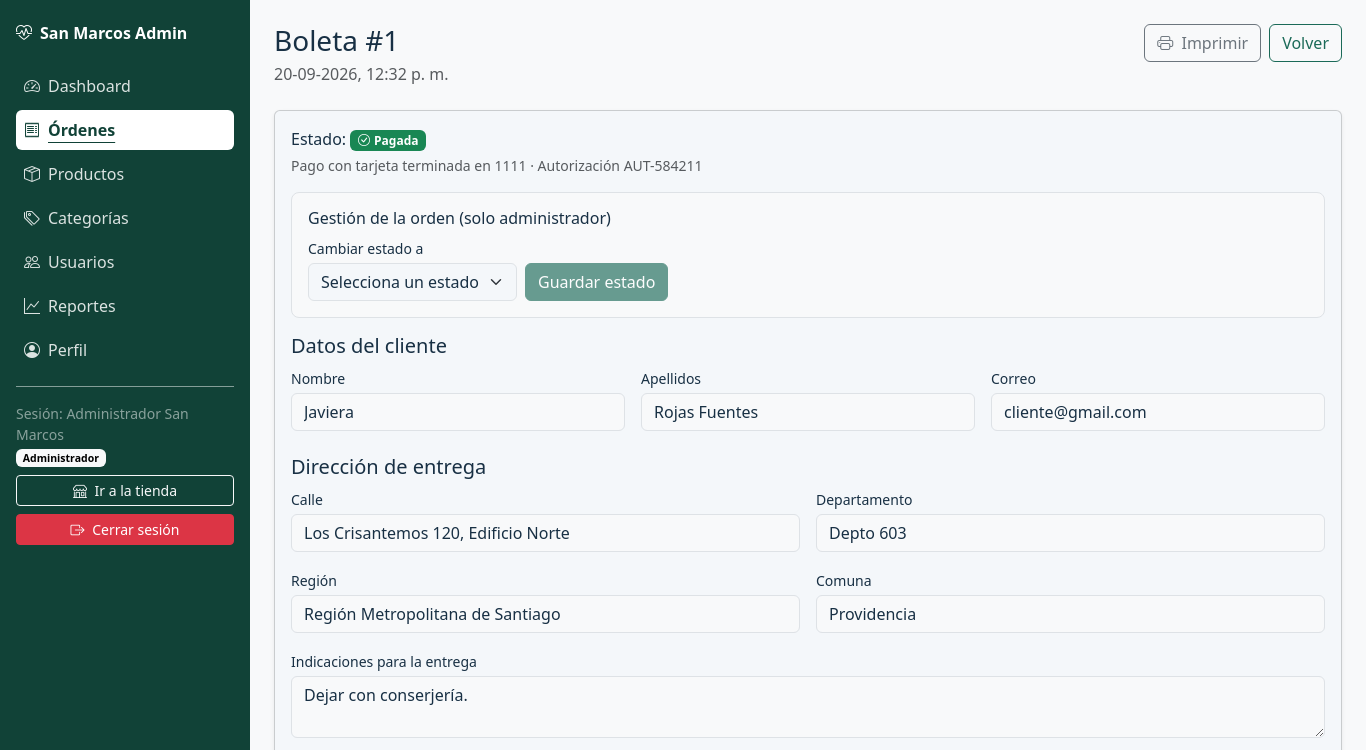
it: Panel de administración: cada vista renderiza sus datos › el administrador cambia el estado de una boleta
Select "Enviada" in the dropdown labelled "Cambiar estado a" at (412, 282), box top-left (308, 263), bottom-right (517, 301)
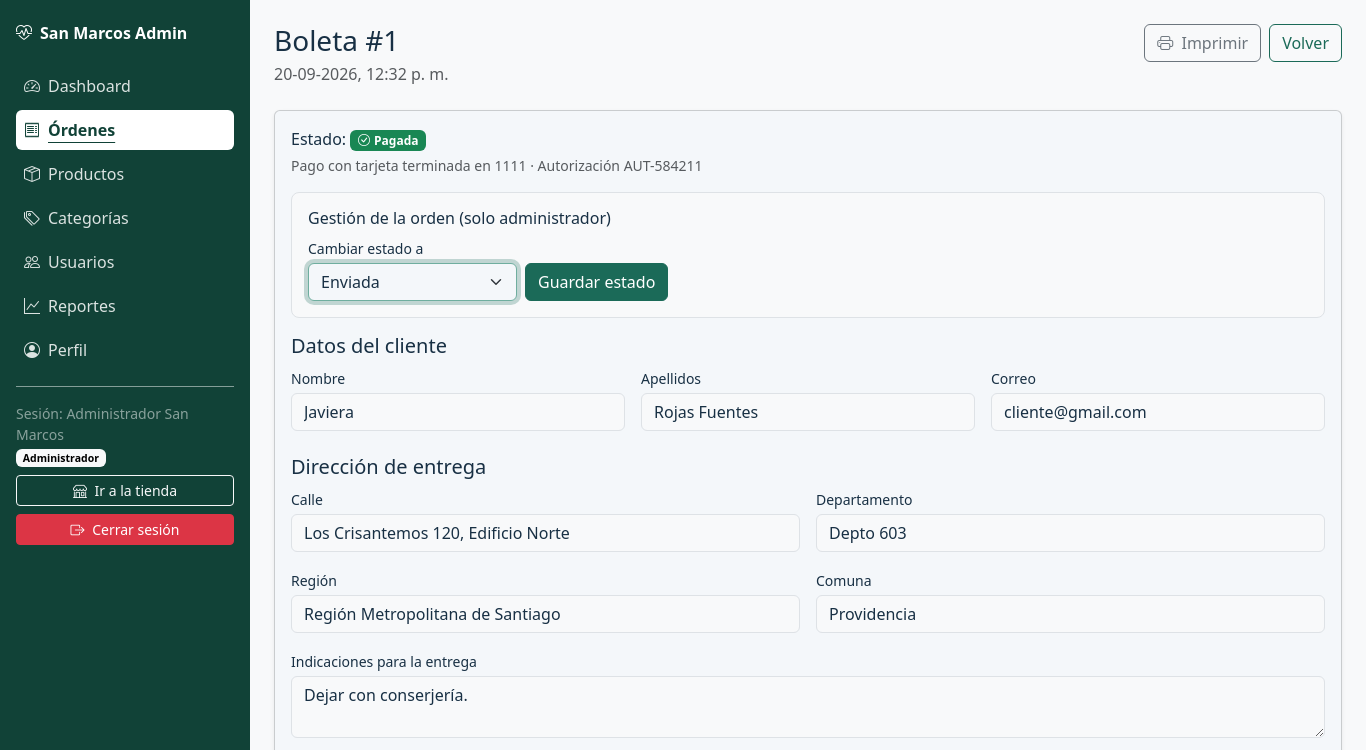
Click the button "Guardar estado".
click(597, 282)  # box top-left (525, 263), bottom-right (668, 301)
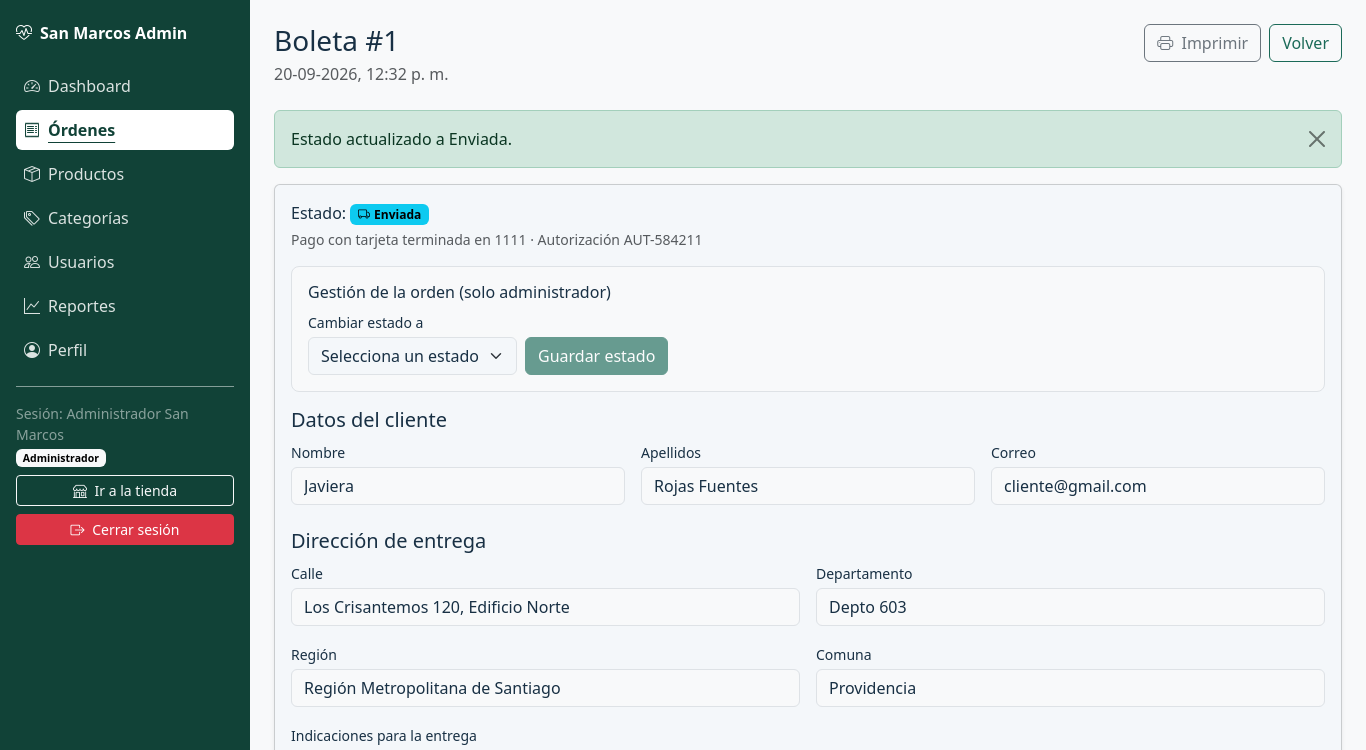
Expected: the text "Estado actualizado a Enviada." is shown, top-left (274, 110), bottom-right (1342, 168)
